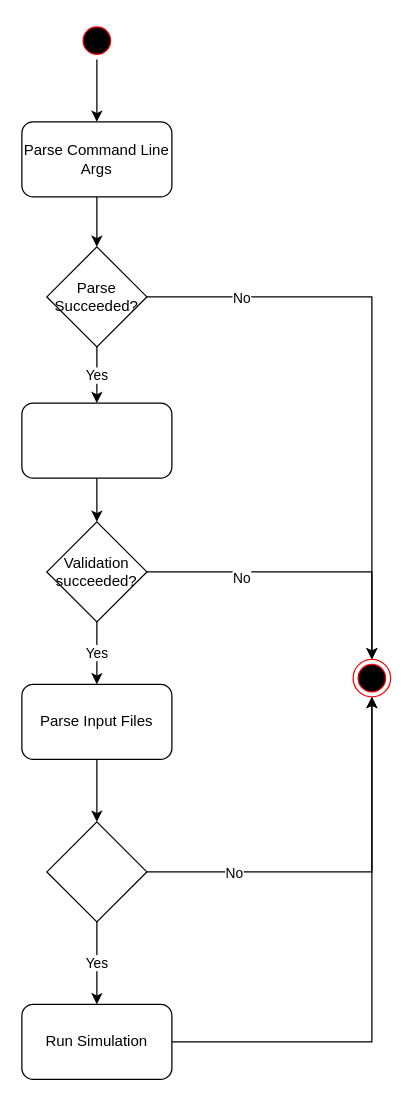
Some shapes in this 413 by 1101 pixel diagram are drawn without their labels. The box of each missing label's shape, as (x1, y1, x2, y2) in pixels:
Input file parsing succeeded?: (46, 821, 147, 922)
Validate Simulation Configurations: (21, 402, 172, 478)
